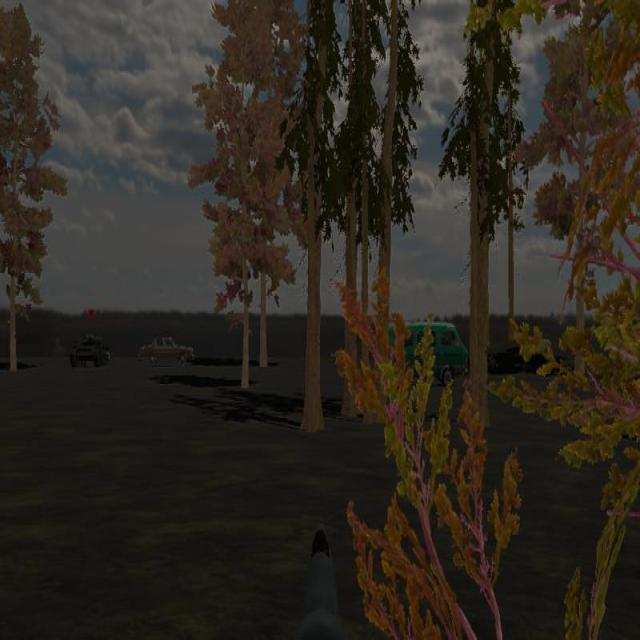Tank: (70, 331, 110, 369)
car: (398, 322, 469, 386), (138, 333, 193, 366)
